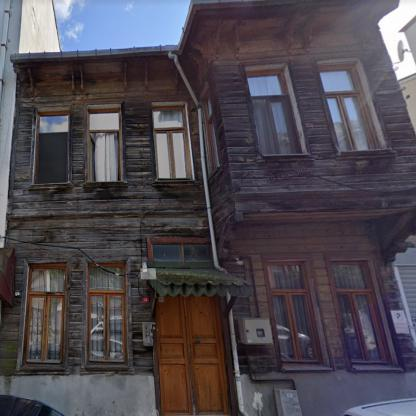door: (157, 298, 226, 413)
window: (330, 264, 385, 362), (267, 262, 320, 363), (320, 69, 375, 151), (247, 74, 295, 155), (26, 268, 66, 361), (89, 266, 124, 362), (153, 108, 191, 179), (34, 114, 68, 184), (88, 110, 120, 181), (152, 244, 211, 260), (206, 96, 218, 170)
